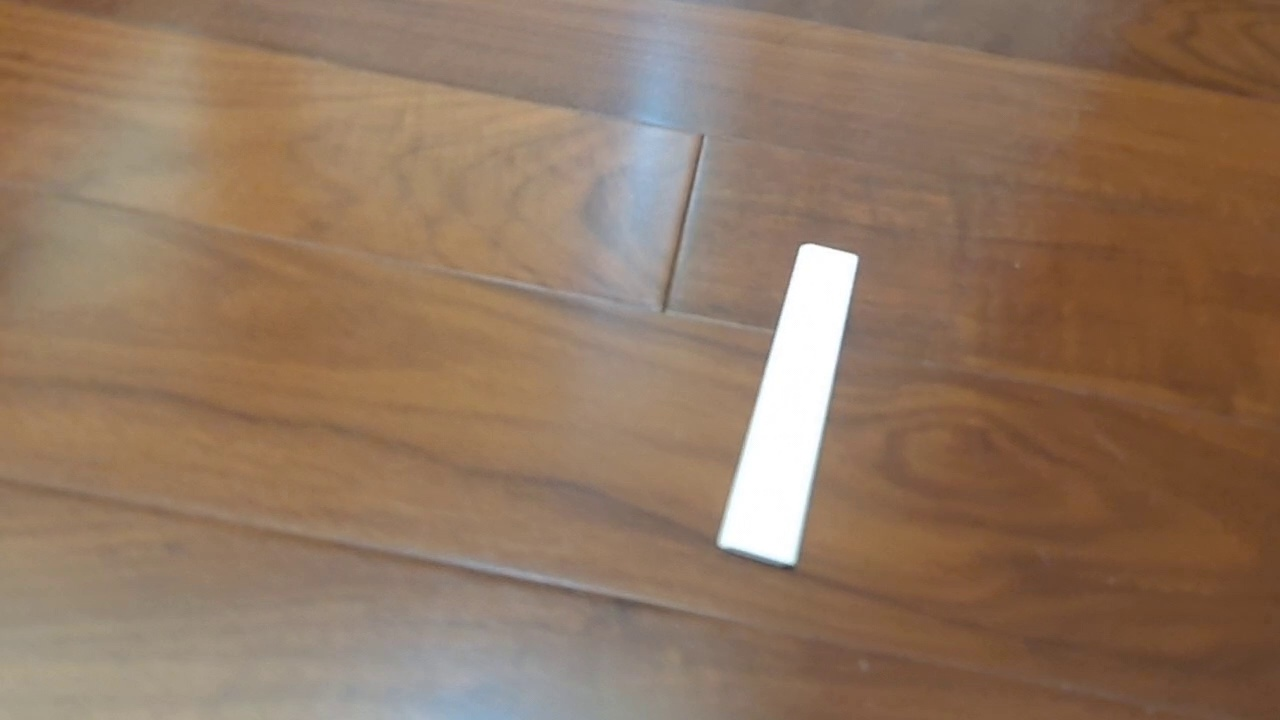ruler: (715, 242, 860, 571)
